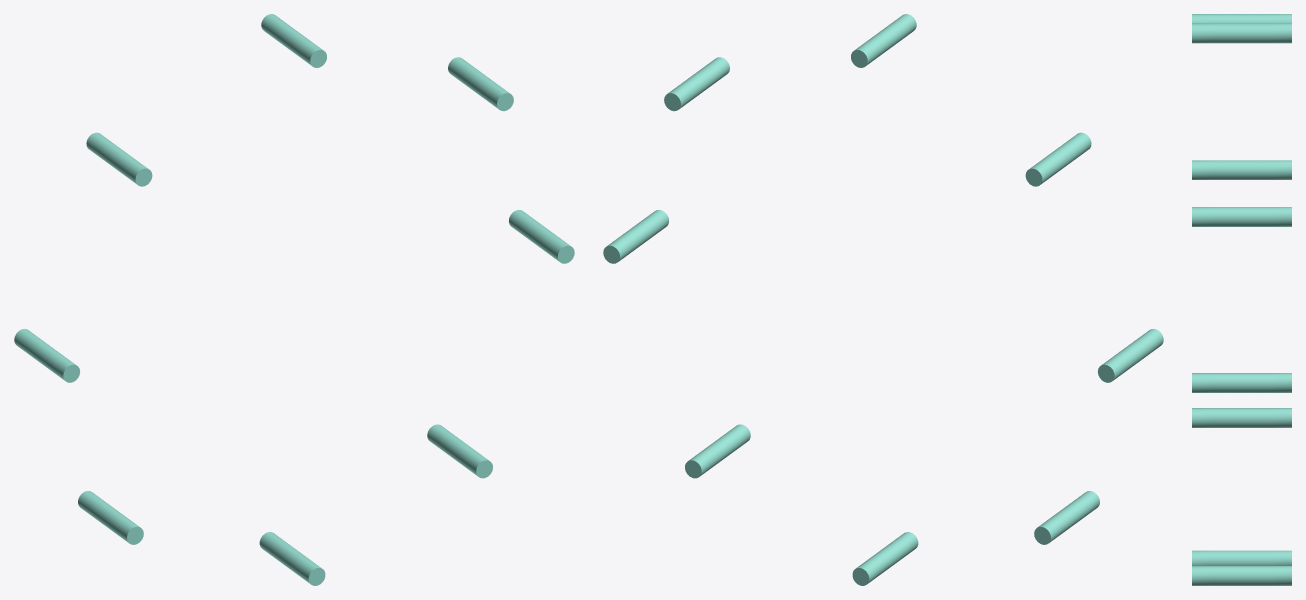
The model's file is pillars.obj.
The picture shows the model from 3 angles, left to right: view 1: azimuth 30°, elevation 25°; view 2: azimuth 150°, elevation 25°; view 3: azimuth 270°, elevation 25°; orthographic projection.
Visible parts, largest first — view 1: obj1; view 2: obj1; view 3: obj1.
Part boxes in pixels (left/top/right/bottom): obj1: left=14, top=14, right=574, bottom=585; obj1: left=603, top=14, right=1163, bottom=585; obj1: left=1192, top=14, right=1291, bottom=585.
Bounding box in the file's own units: 181 × 181 × 30.
